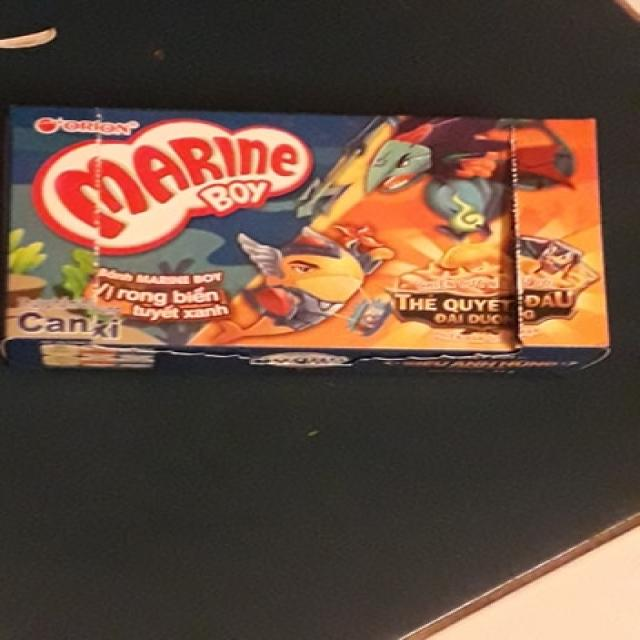PaperCardboard: (4, 100, 614, 365)
